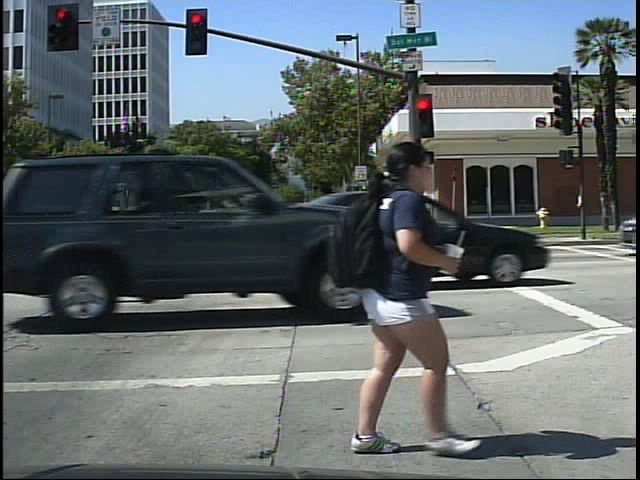person: (311, 132, 471, 460)
